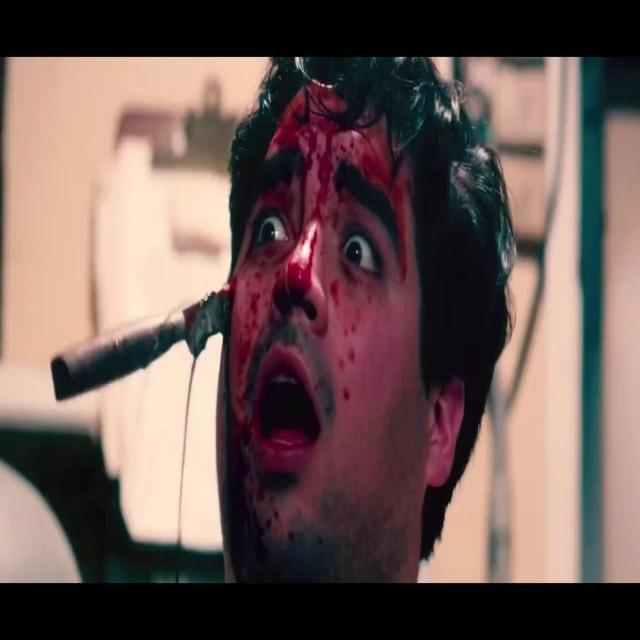flood: (165, 278, 223, 588), (282, 95, 334, 298)
